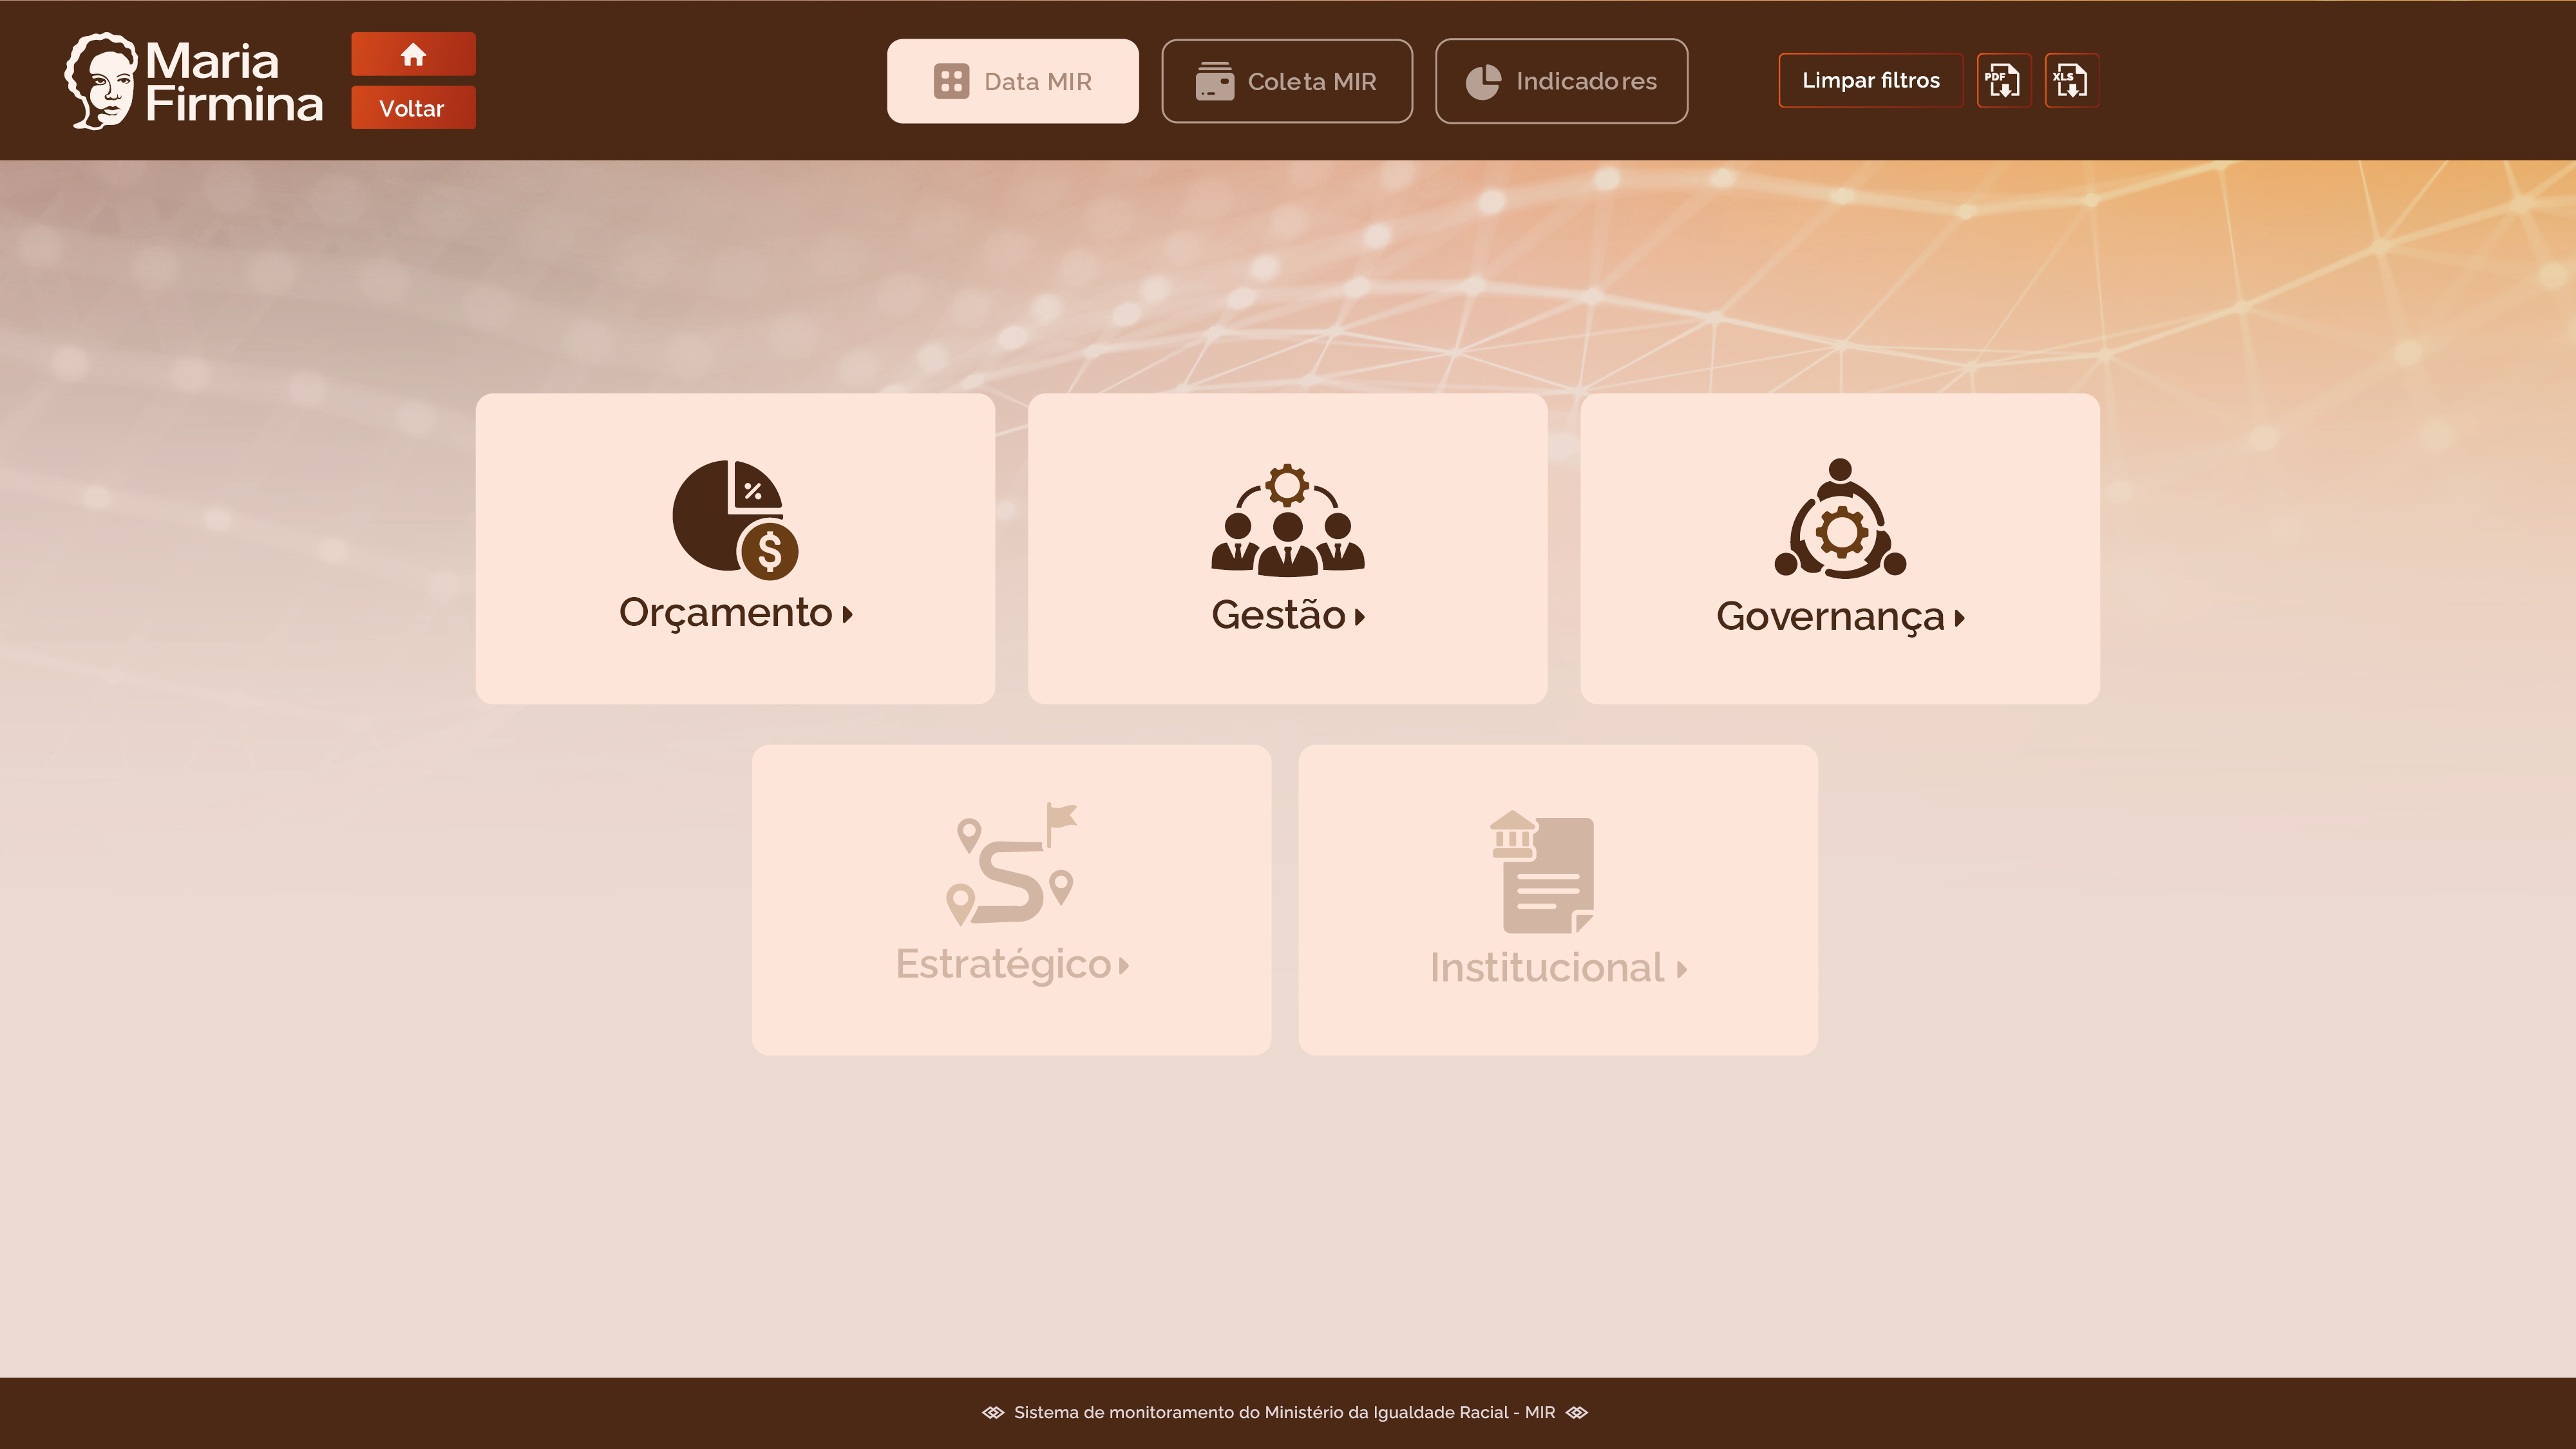

What the dashboard file says about the page in this screenshot:
{"tool":"powerbi","page":{"name":"sel_dimensoes_orçamento","canvas":[1920,1080],"ordinal":4},"visuals":[{"type":"actionButton","box":[1228.8,376.1,433.9,86.8],"z":0},{"type":"actionButton","box":[232.8,497.3,442.2,82.7],"z":1000},{"type":"actionButton","box":[249.3,374.7,391.7,85.8],"z":2000},{"type":"actionButton","box":[706.7,490.4,432.6,89.5],"z":3000},{"type":"actionButton","box":[706.7,376.1,436.7,88.2],"z":4000},{"type":"actionButton","box":[246.6,611.6,425.7,85.4],"z":5000},{"type":"actionButton","box":[249.5,30.2,89.3,39.2],"z":6000},{"type":"actionButton","box":[261.5,62,94.3,32.9],"z":7000},{"type":"actionButton","box":[261.7,22.8,92.2,33.3],"z":8000},{"type":"textbox","box":[1642.6,29.3,167.6,71.8],"z":9000},{"type":"actionButton","box":[1326.7,40.7,137.8,38.9],"z":10000},{"type":"image","box":[1820,42,53.3,37.8],"z":11000},{"type":"actionButton","box":[661.3,28.7,187.3,62.7],"z":12000},{"type":"actionButton","box":[866,28.7,187.3,62.7],"z":13000},{"type":"actionButton","box":[1069.3,30,187.3,62.7],"z":14000},{"type":"actionButton","box":[702.6,601.4,441.8,102.8],"z":14001}]}

Visuals, with their boxes on the page's 1920x1080 design canvas (x1, y1, x2, y2). These are canvas units, not pixel positions in the 2576x1449 screenshot, which may show the page scaled, cropped or inside an application window:
actionButton: left=1229, top=376, right=1663, bottom=463
actionButton: left=233, top=497, right=675, bottom=580
actionButton: left=249, top=375, right=641, bottom=460
actionButton: left=707, top=490, right=1139, bottom=580
actionButton: left=707, top=376, right=1143, bottom=464
actionButton: left=247, top=612, right=672, bottom=697
actionButton: left=250, top=30, right=339, bottom=69
actionButton: left=262, top=62, right=356, bottom=95
actionButton: left=262, top=23, right=354, bottom=56
textbox: left=1643, top=29, right=1810, bottom=101
actionButton: left=1327, top=41, right=1464, bottom=80
image: left=1820, top=42, right=1873, bottom=80
actionButton: left=661, top=29, right=849, bottom=91
actionButton: left=866, top=29, right=1053, bottom=91
actionButton: left=1069, top=30, right=1257, bottom=93
actionButton: left=703, top=601, right=1144, bottom=704
